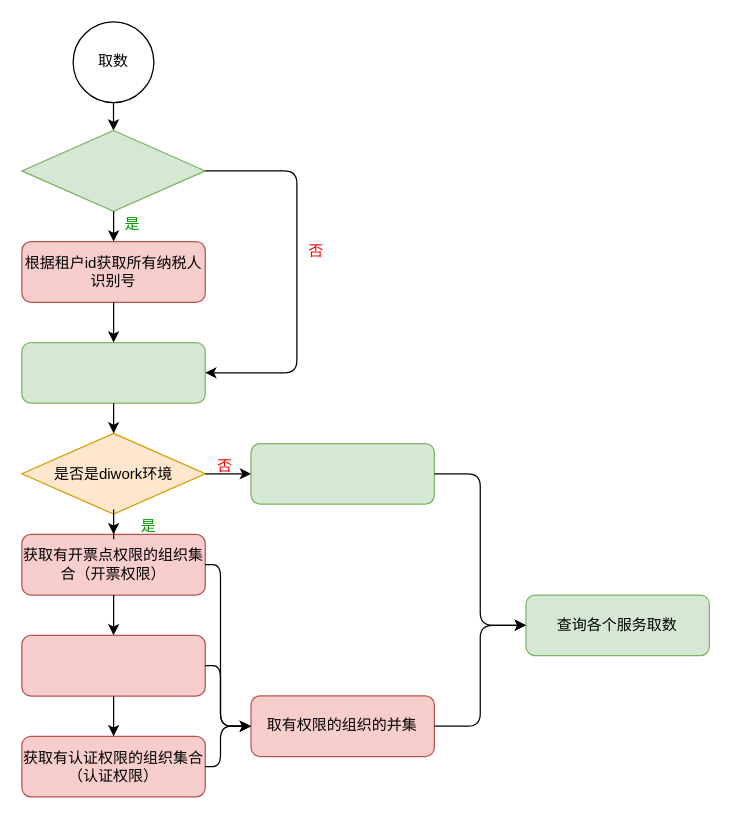
The diagram is 731 pixels wide and 819 high, and some of its shapes have lost their labels. Here are the shapes that lost their labels. From the top down, the centre of each, then its label:
(113,170): 是否全部纳税人
(113,372): 根据纳税人识别号获取有权限的组织
(342,473): 走原来的查询组织的接口获取所有有权限的组织
(113,665): 获取有会计主体权限的组织集合（受票权限）
